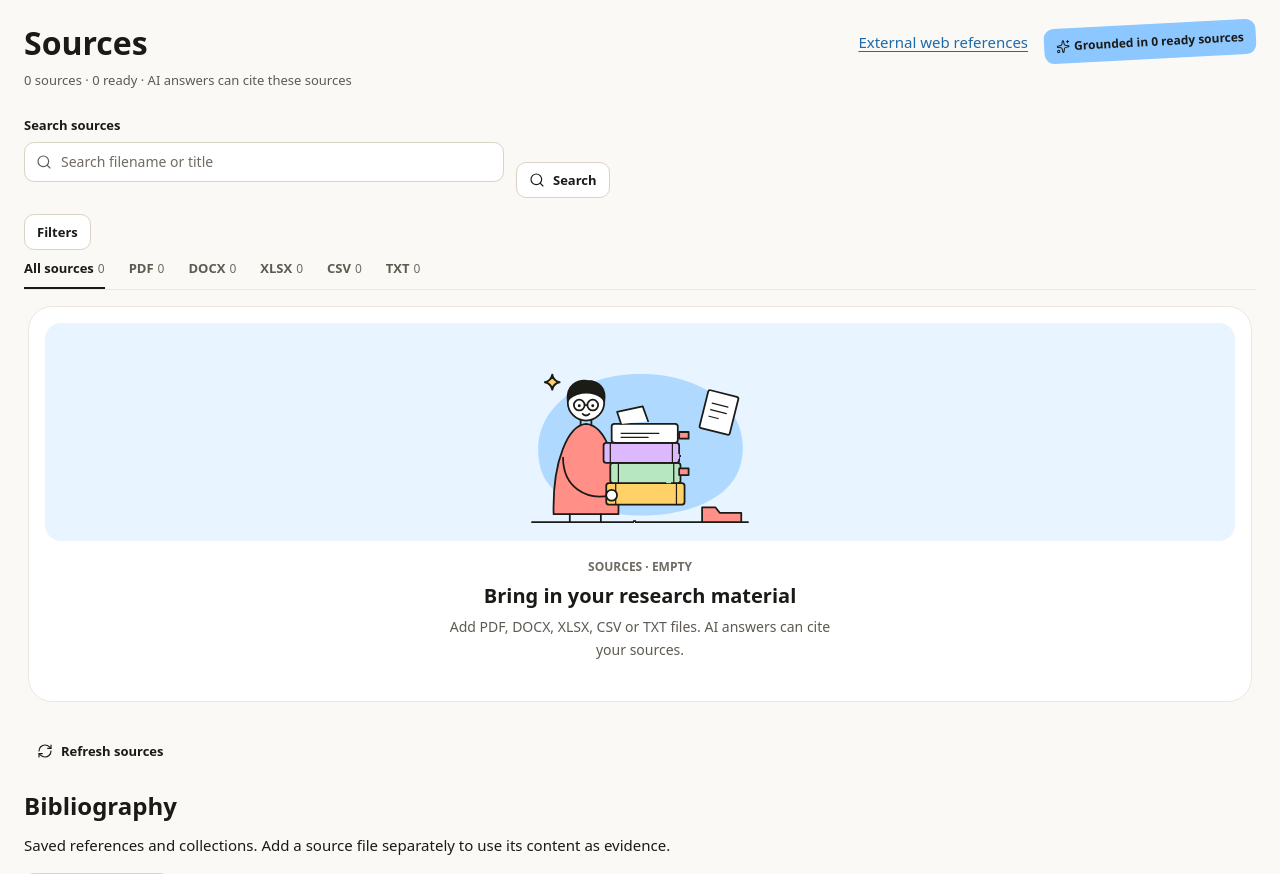
it: WorkspaceDetailPage › refreshes sources uploaded in another browser session
The width and height of the screenshot is (1280, 874).
Expected: the heading "Bring in your research material" is shown, x1=484 y1=582 x2=796 y2=610
What coordinates should you click on to do the following:
click the button "Refresh sources"
I would click on:
 (100, 751)
Its box is x1=24 y1=734 x2=176 y2=768.
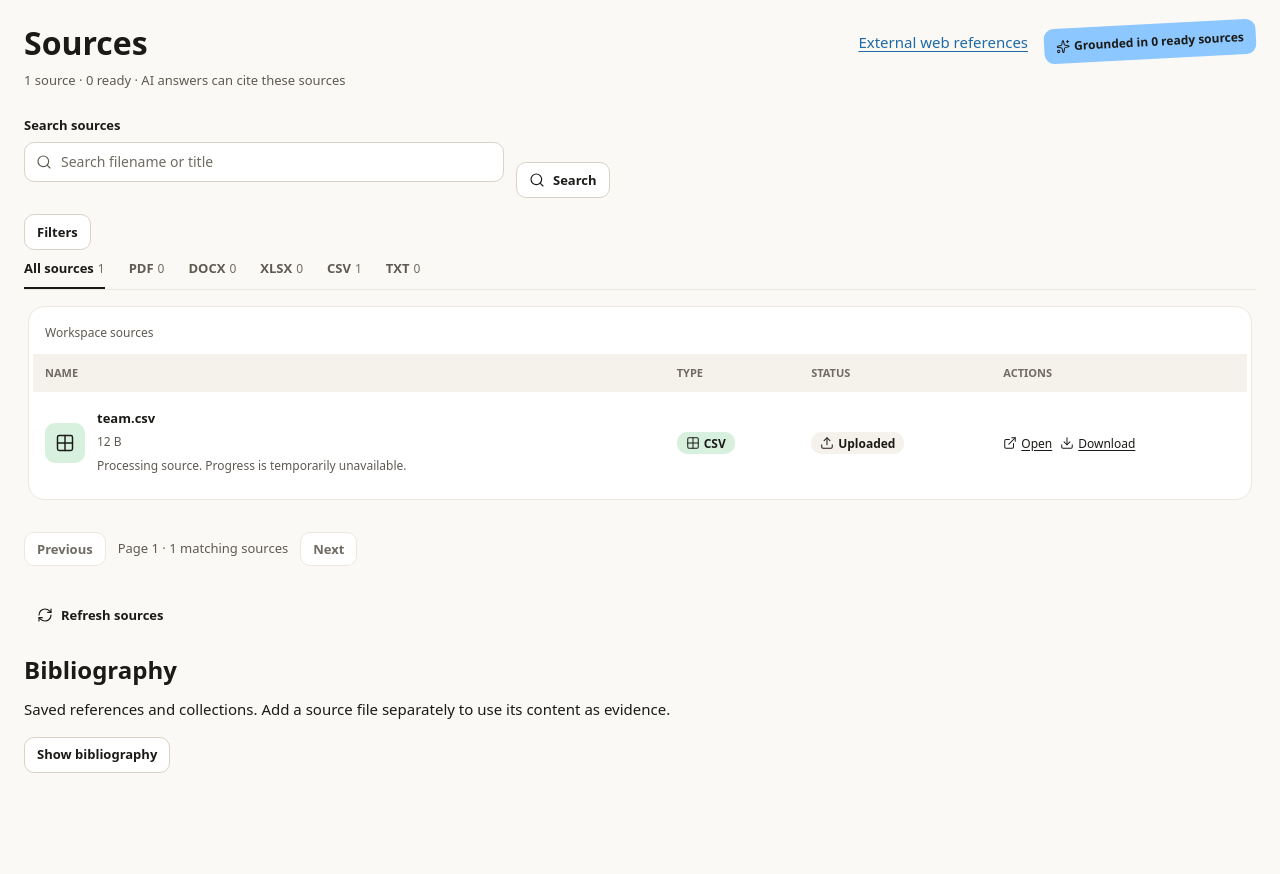
Expected: the link "team.csv" is shown, x1=97 y1=409 x2=155 y2=427
